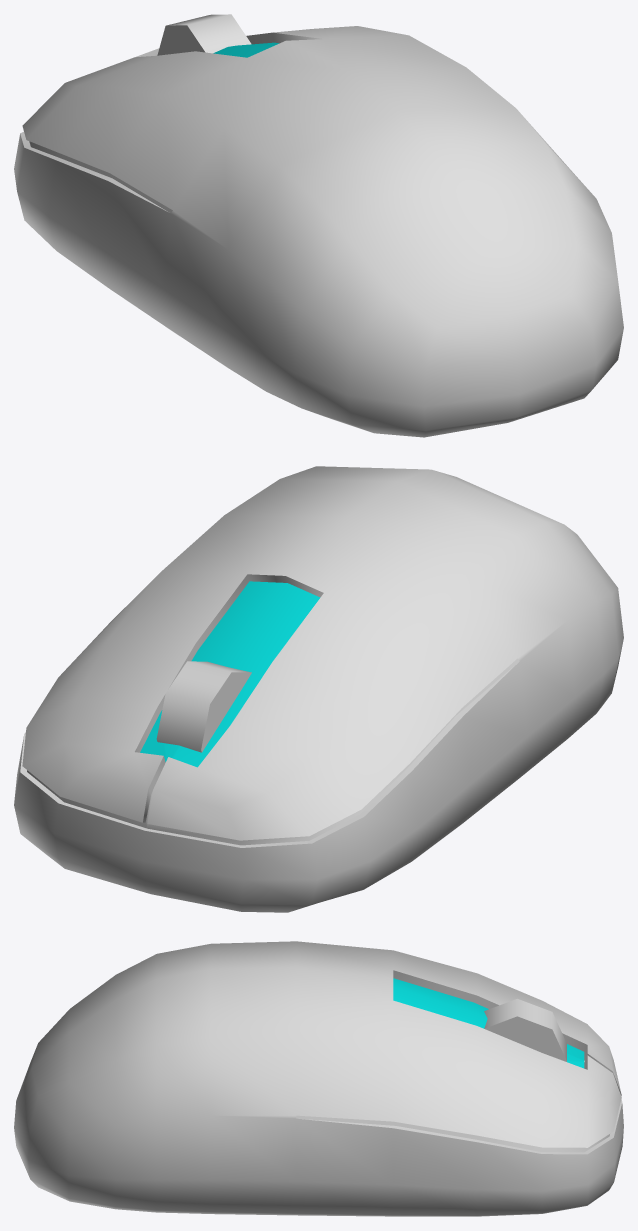
Rendered from mys.fbx.
3 views of the same model, one above another, from view 1: azimuth 30°, elevation 25°; view 2: azimuth 150°, elevation 25°; view 3: azimuth 270°, elevation 25° (orthographic). The views are drawn at different scales.
Parts seen in each view (by area): view 1: Cube; view 2: Cube; view 3: Cube.
Boxes of the visible parts, x1,y1,x2,y2 form: Cube: [14, 14, 623, 437]; Cube: [14, 466, 623, 912]; Cube: [14, 941, 623, 1216].
Size of the model in its own units: 5.95 by 3.67 by 10.44.
